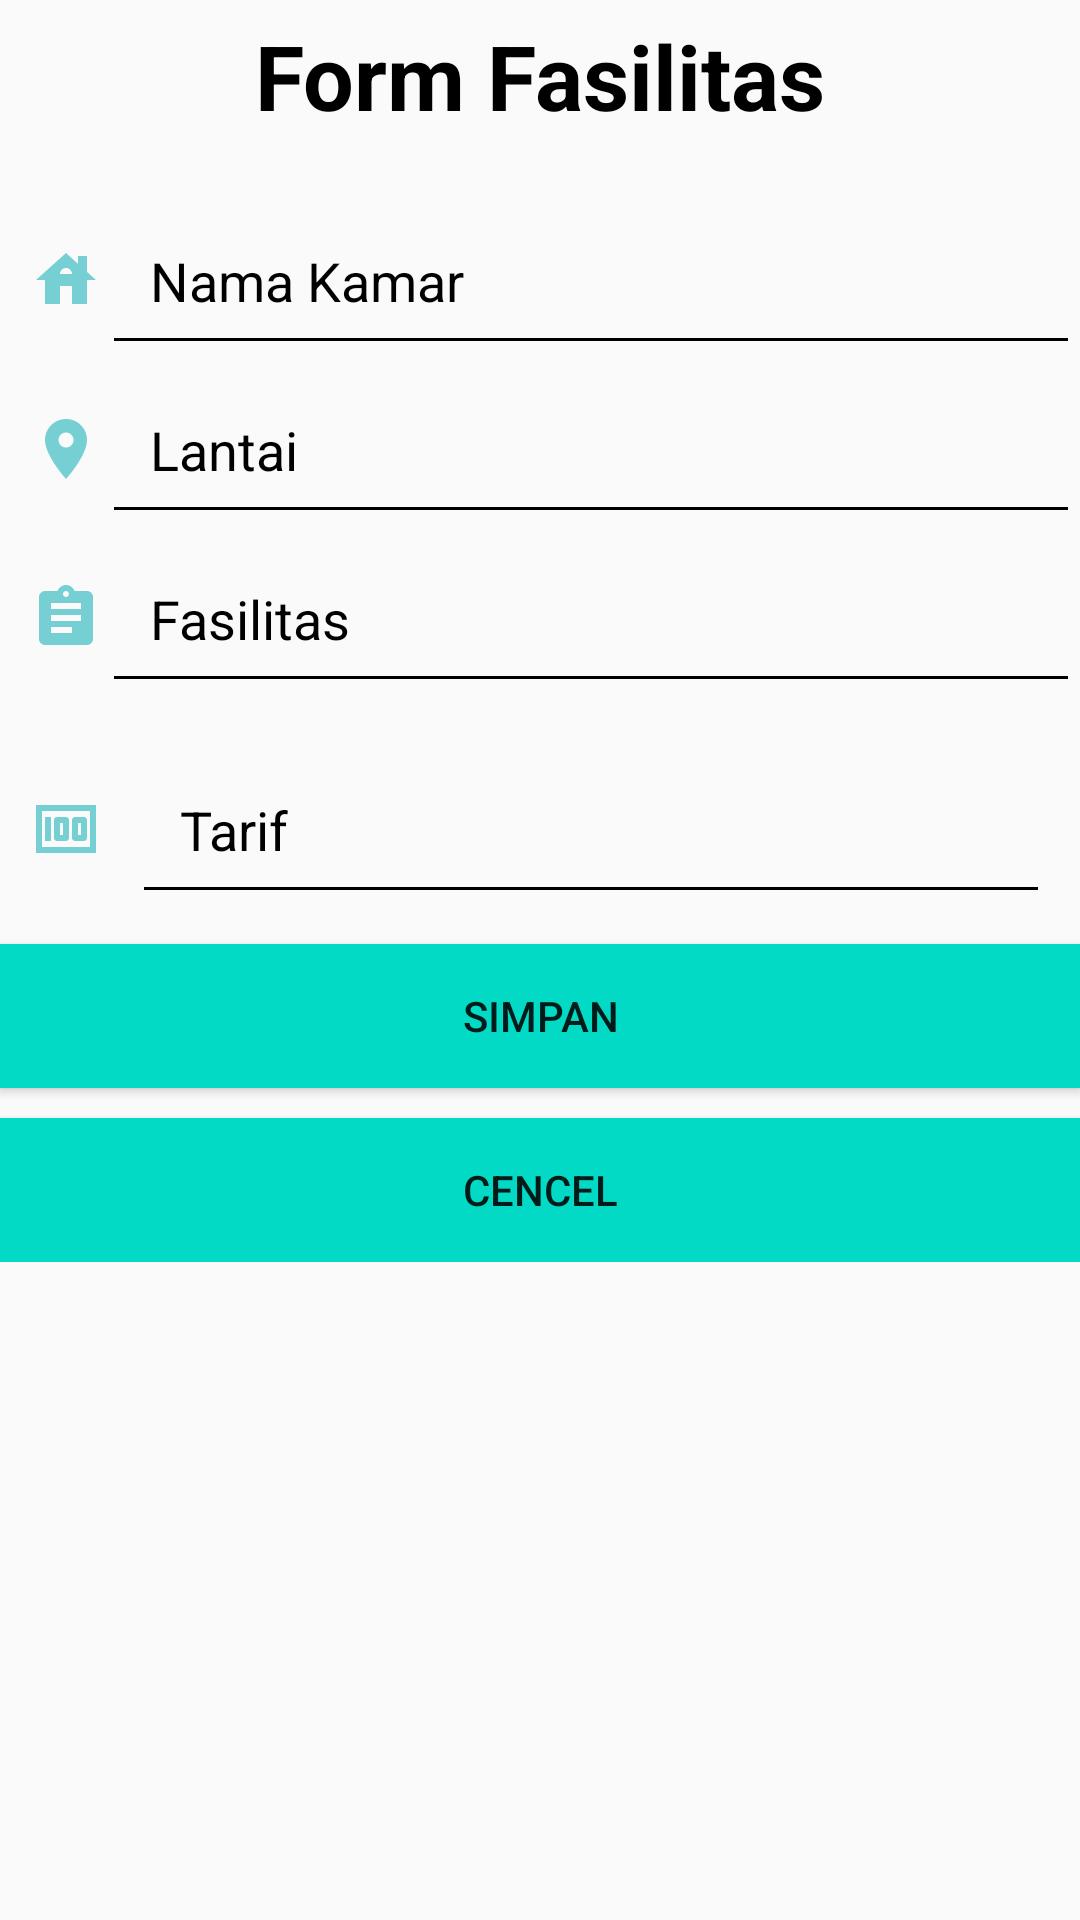

Icon click points for this 1080 x 1920 phone screenshot, format (x=x, y=y):
alamat: (x=66, y=449)
assignment: (x=66, y=615)
house: (x=66, y=278)
money: (x=66, y=829)
